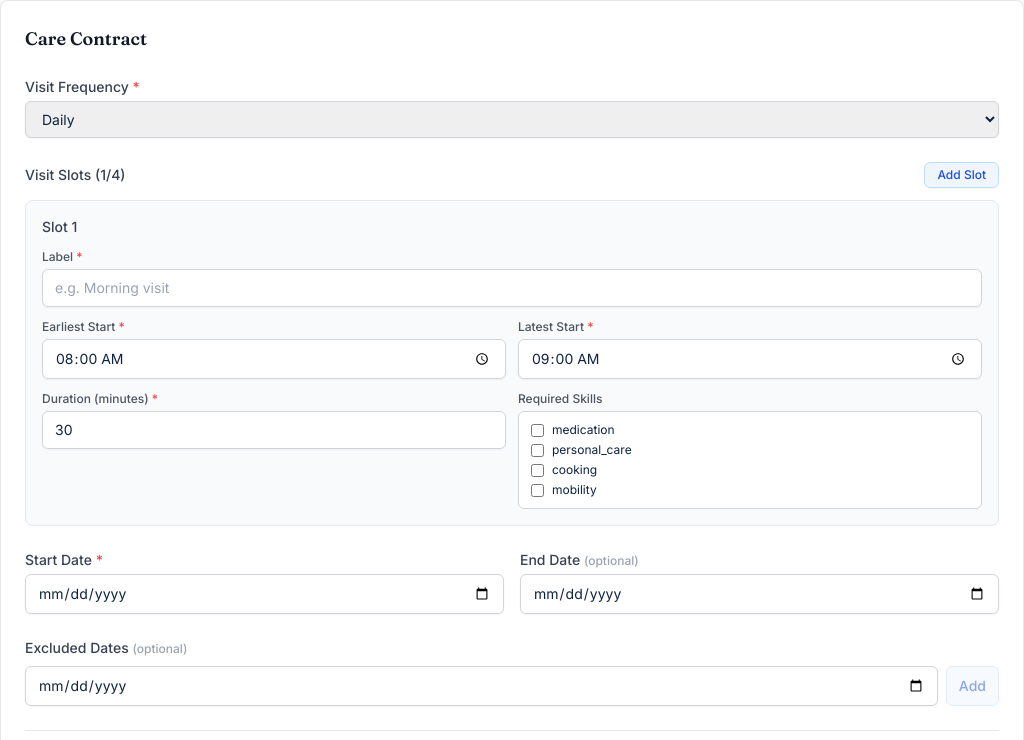
Scenario: ContractForm › allows adding slots up to 4 and removing down to 1
// Add 3 more slots (total 4)
Click the button "Add Slot" at (962, 175), box [924,162,999,188]
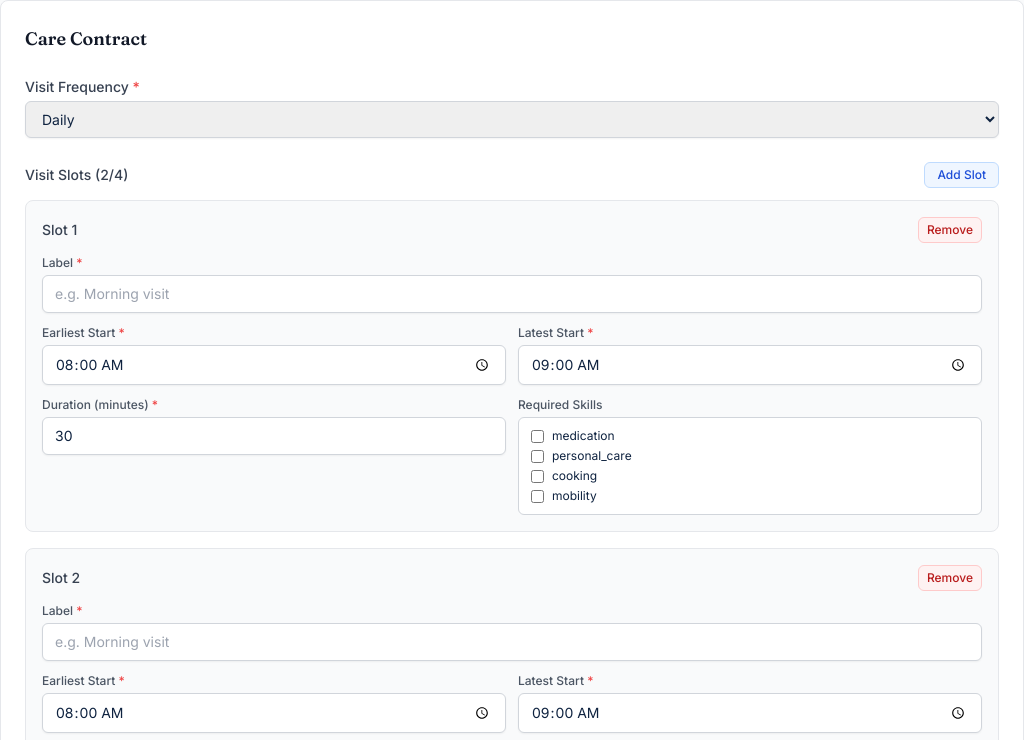
Click the button "Add Slot" at (962, 175), box [924,162,999,188]
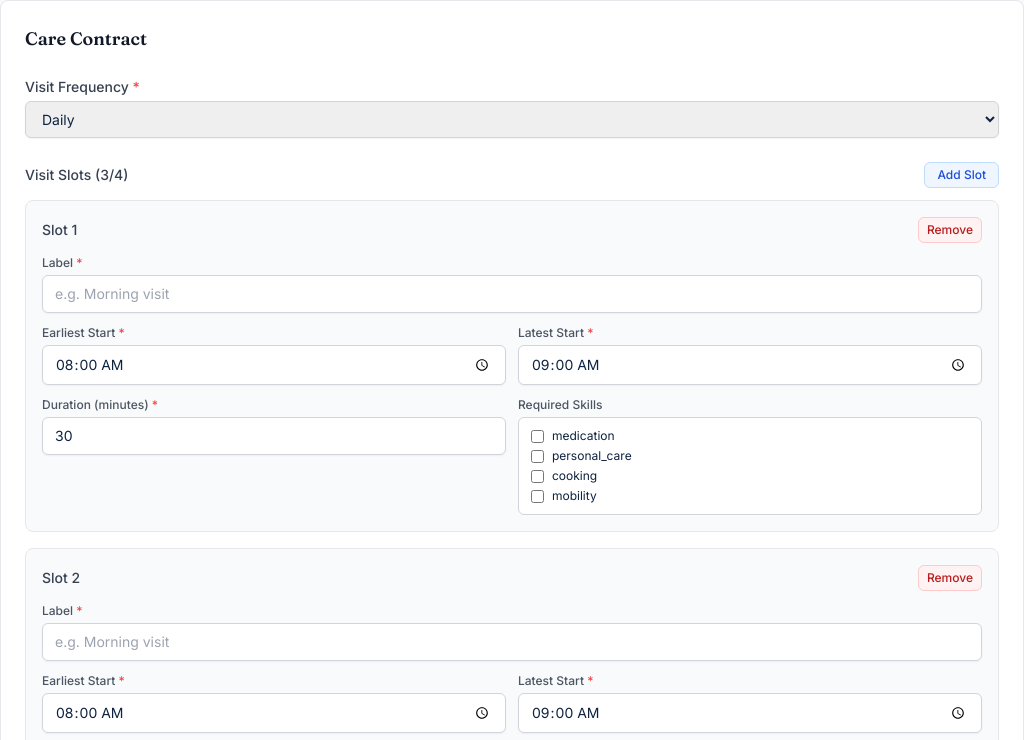
Click the button "Add Slot" at (962, 175), box [924,162,999,188]
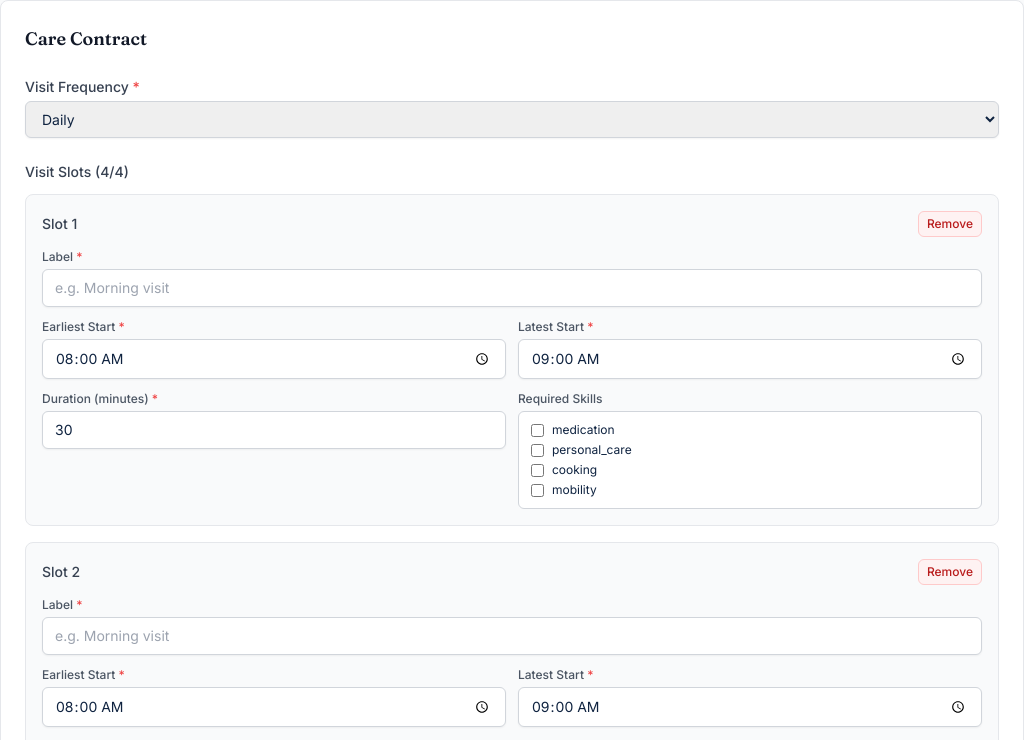
Expected: the button "Add Slot" is gone
Expected: the number of buttons "Remove" is 4
// Remove all but one
Click the 1st button "Remove" at (950, 224), box [918,211,982,237]
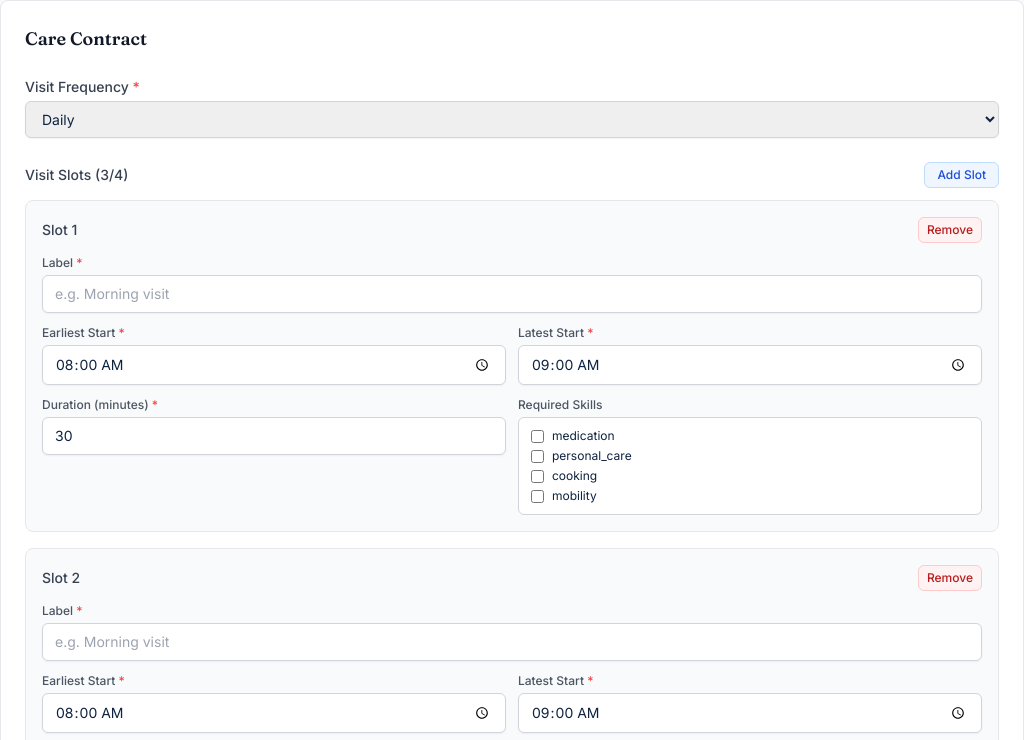
Click the 1st button "Remove" at (950, 230), box [918,217,982,243]
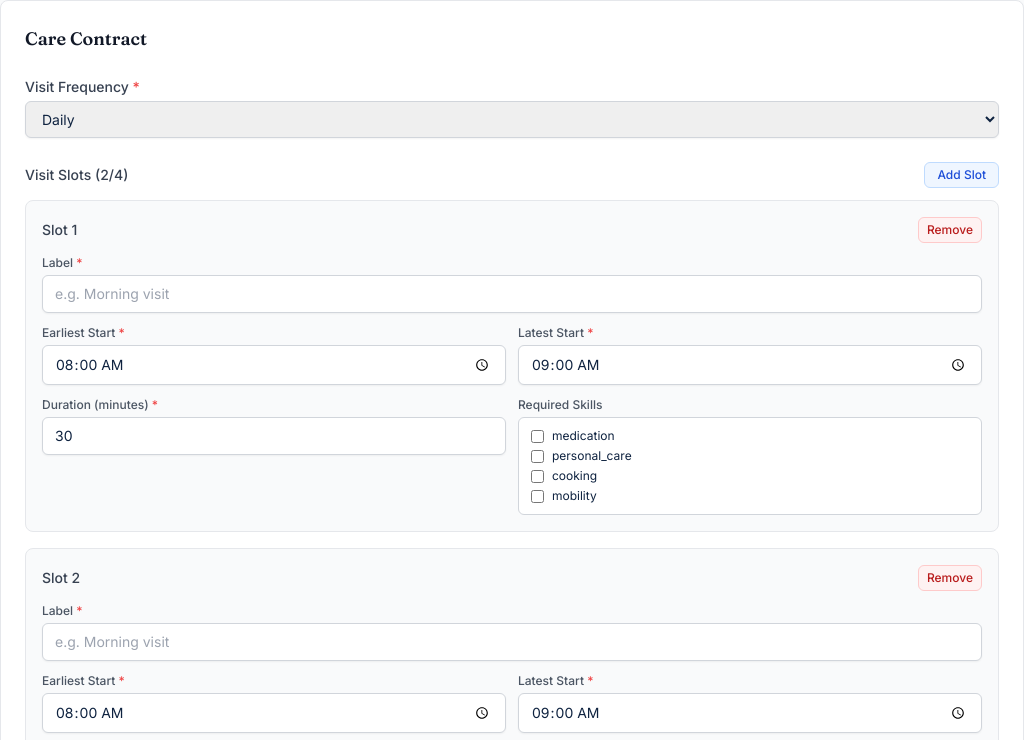
Click the 1st button "Remove" at (950, 230), box [918,217,982,243]
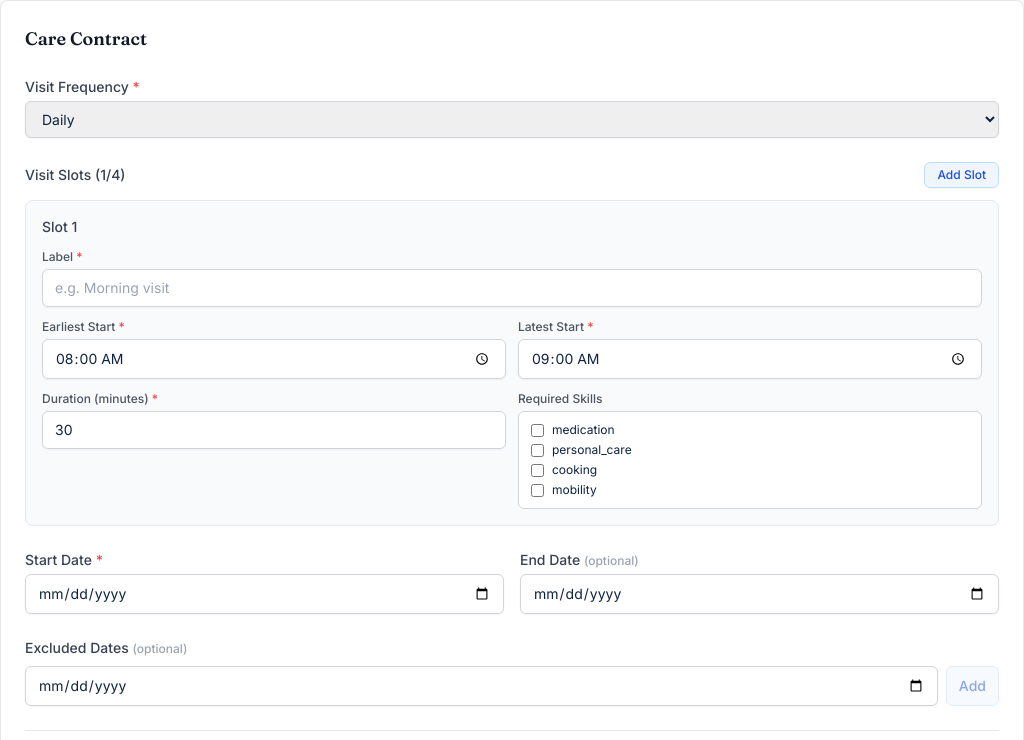
Expected: the button "Remove" is gone
